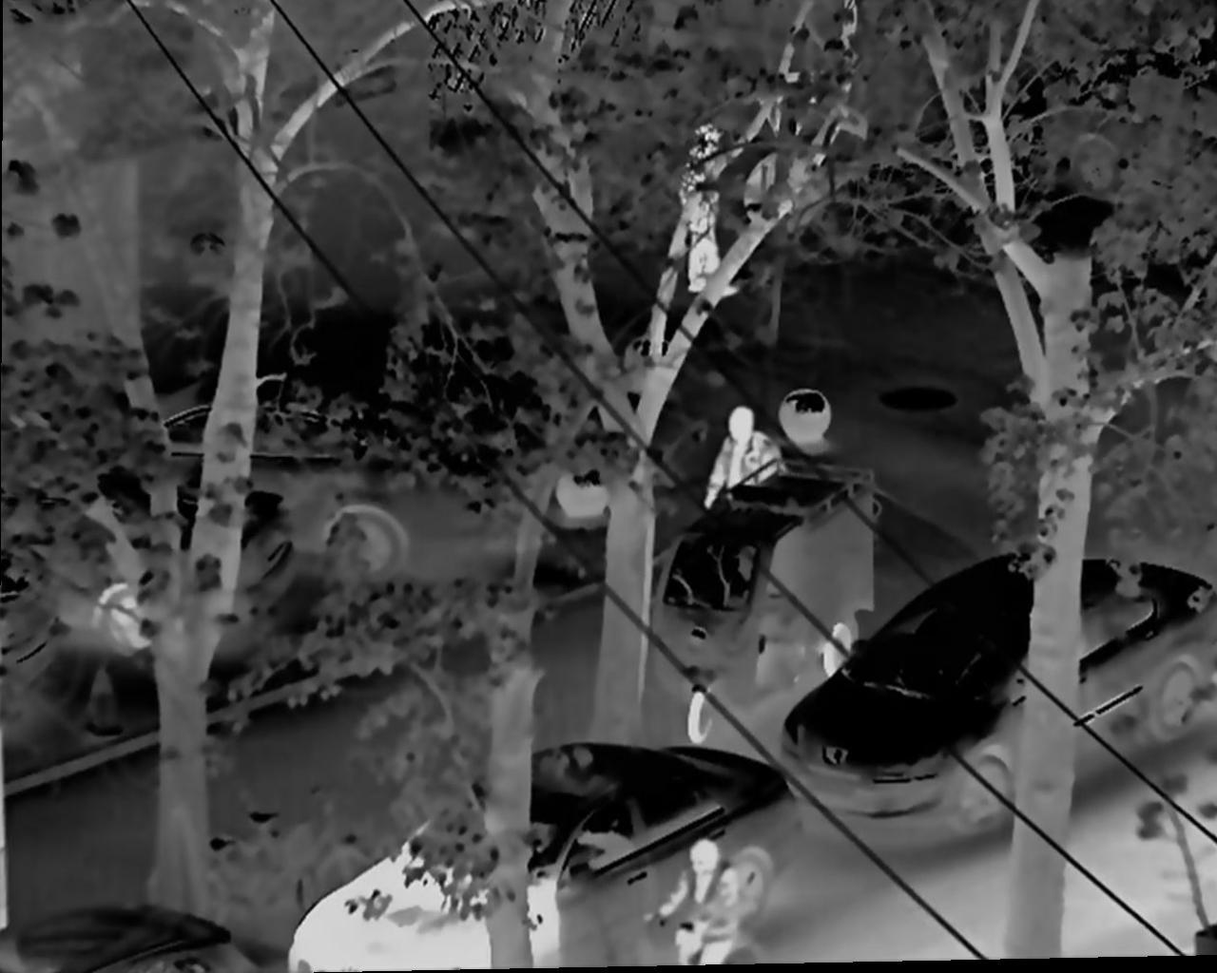person: (666, 113, 740, 309), (651, 824, 748, 963), (701, 391, 785, 521)
